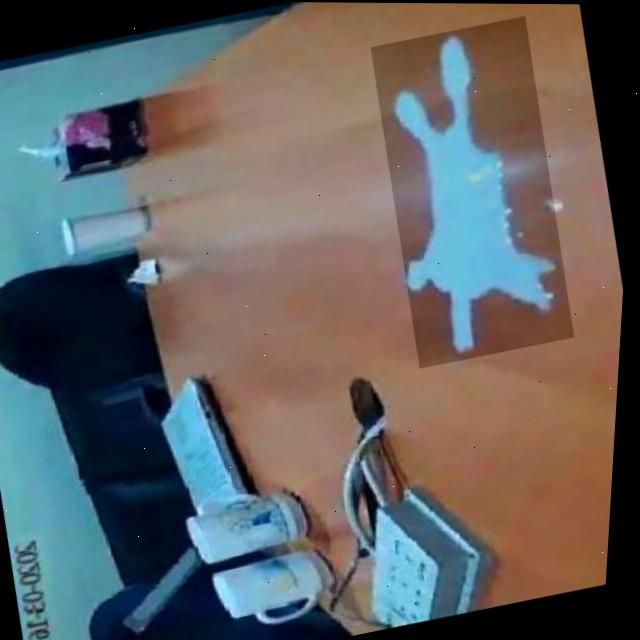spillage: (396, 29, 568, 358)
